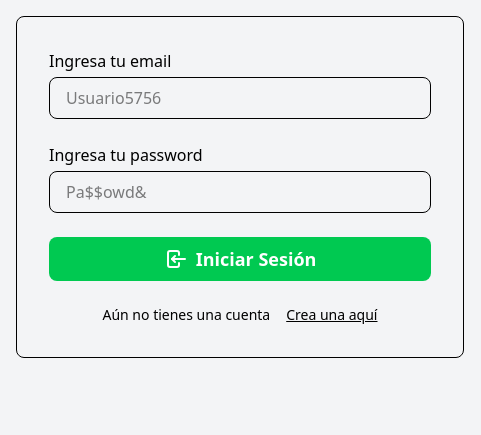
Test: FormLogin Test › Validation › Debe mostrar error de validación si no se ingresa un email correcto
The width and height of the screenshot is (481, 435).
Step 1. Type "testcorreo" into the field with test id "email" → {"x": 240, "y": 98}, box [49, 77, 431, 119]
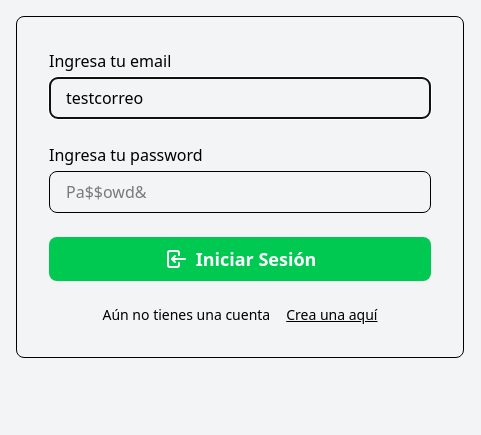
Step 2. Press Tab
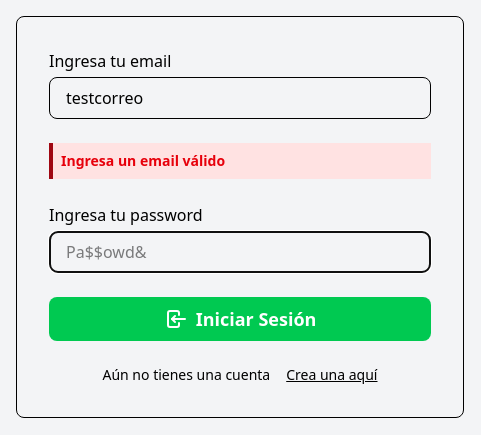
Expected: the text "Ingresa un email válido" is shown, [49, 143, 431, 179]
